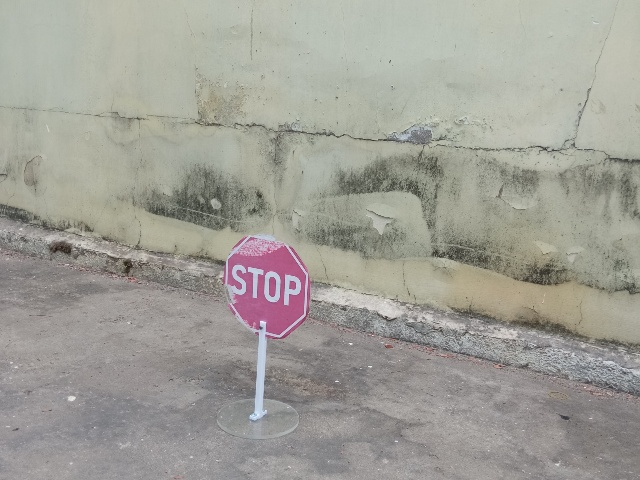Stop_Sign: (223, 234, 311, 341)
